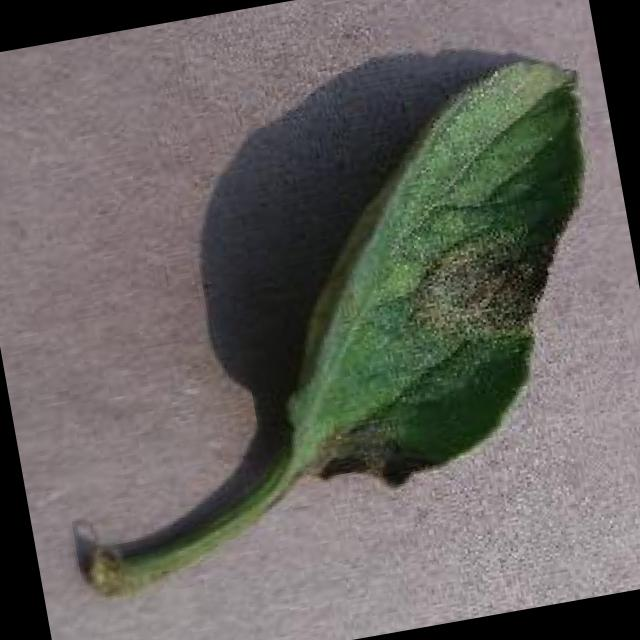Tomato_Late_Blight: (349, 217, 582, 400)
